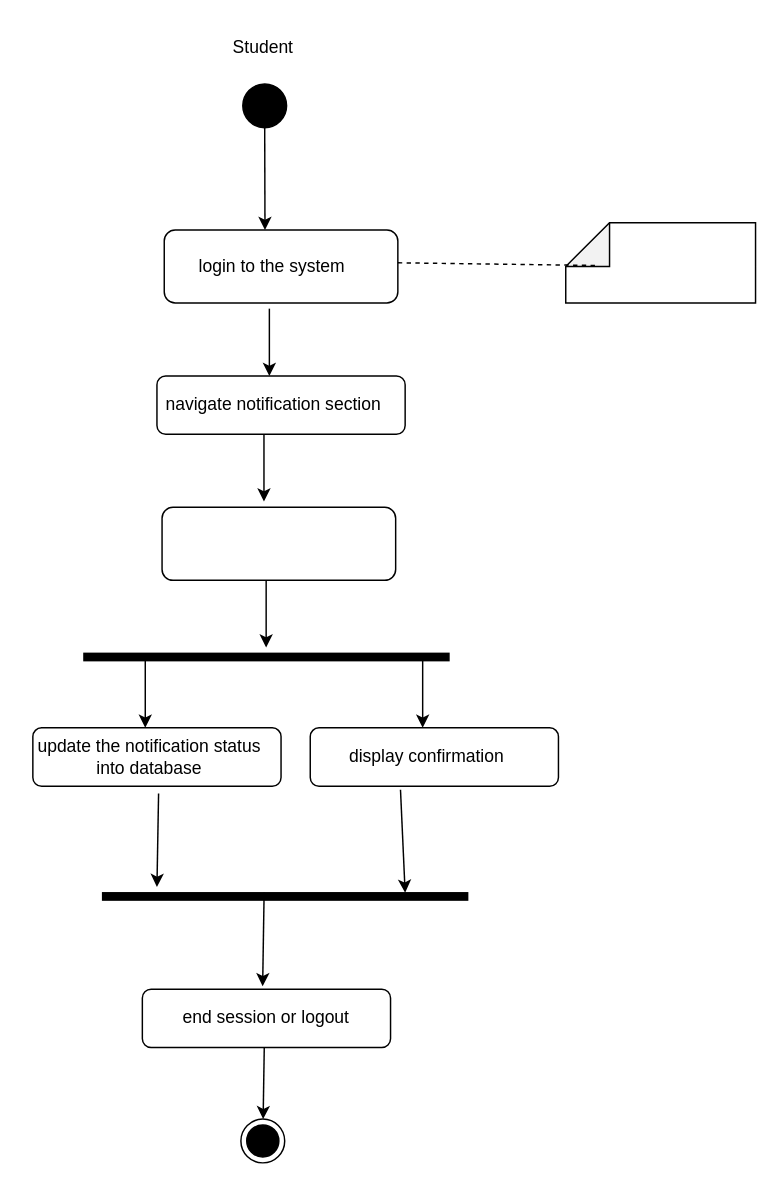
This 781x1188 diagram has some shape labels left out. The centre of each missing label's shape, as x and y in pixels:
"verify authentication" goes at (x=660, y=262).
"view notification" goes at (x=278, y=543).
